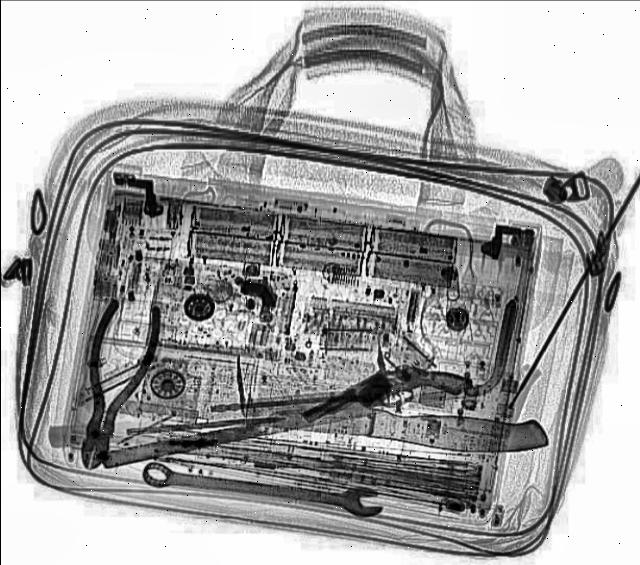Gun: (294, 339, 474, 459)
Knife: (135, 330, 558, 462)
Pliers: (54, 295, 168, 477)
Wrench: (134, 455, 386, 519)
